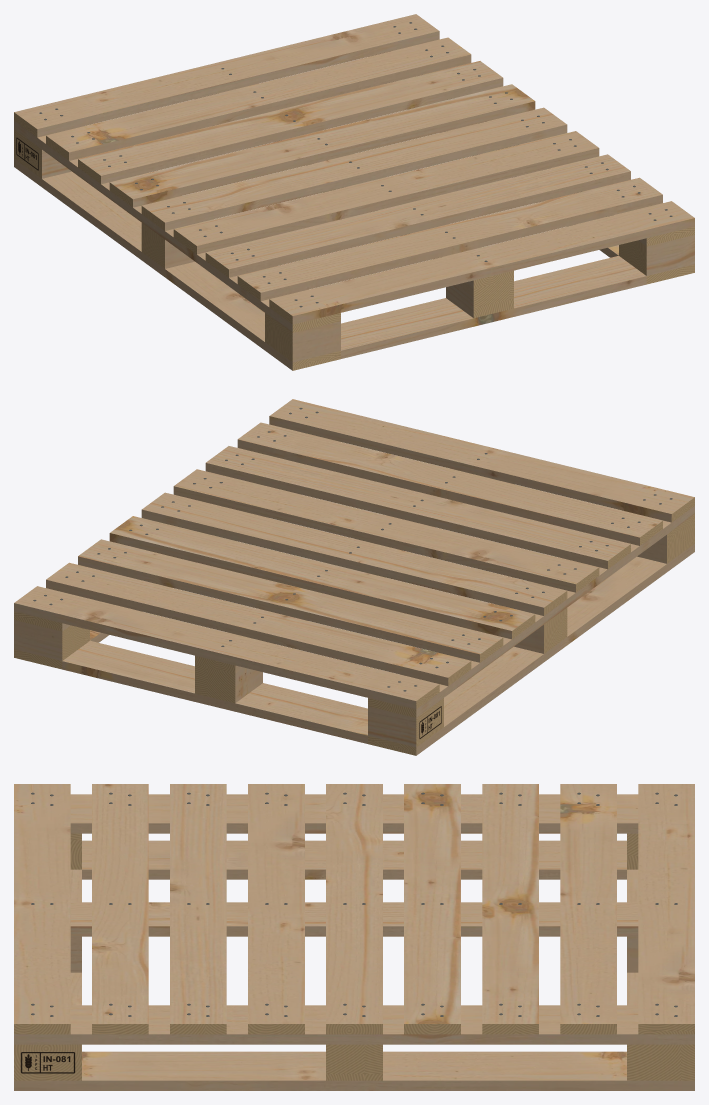
File: pw02-pinewood-pallet-1000x1200.glb
3 views of the same model, one above another, from view 1: azimuth 30°, elevation 25°; view 2: azimuth 150°, elevation 25°; view 3: azimuth 270°, elevation 25° (orthographic). The views are drawn at different scales.
Visible parts, largest first — view 1: pw02-pinewood-pallet-1000x1200; view 2: pw02-pinewood-pallet-1000x1200; view 3: pw02-pinewood-pallet-1000x1200.
Part boxes in pixels (x1,y1,x2,y2): pw02-pinewood-pallet-1000x1200: [14, 14, 694, 370]; pw02-pinewood-pallet-1000x1200: [14, 399, 694, 755]; pw02-pinewood-pallet-1000x1200: [14, 784, 694, 1090].
Size of the model in its own units: 1 by 0.131 by 1.2.
4 materials, 3 textured.
